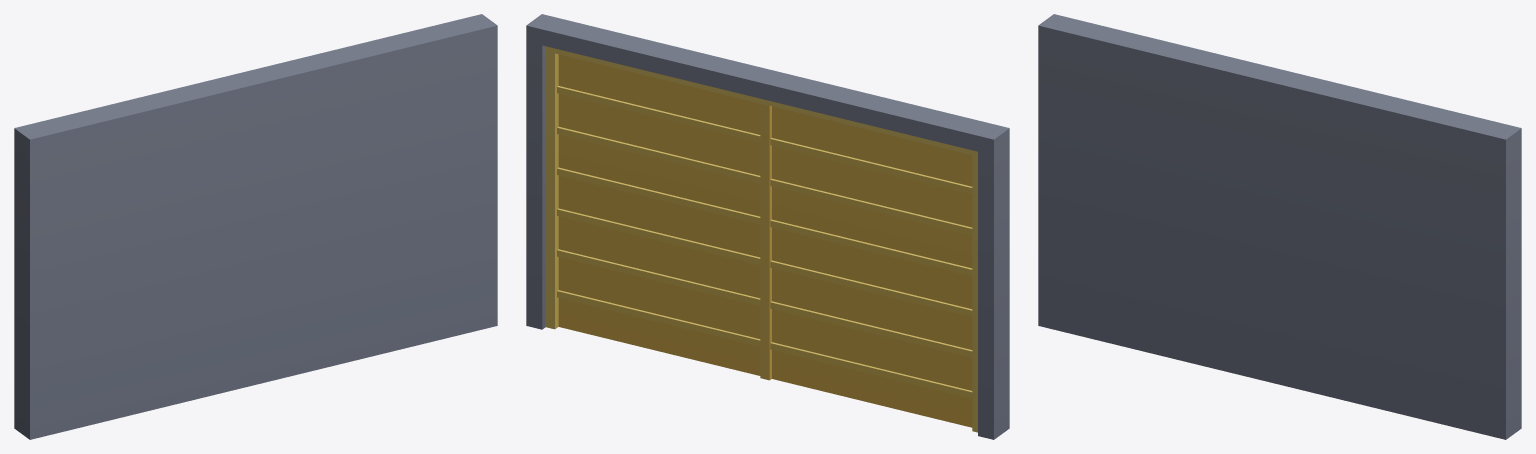
The model's file is squidgame_props_door2.fbx.
3 renders of one model, left to right at view 1: azimuth 30°, elevation 25°; view 2: azimuth 150°, elevation 25°; view 3: azimuth 330°, elevation 25°, orthographic.
Visible parts, largest first — view 1: squidgame_props_door2; view 2: squidgame_props_door2; view 3: squidgame_props_door2.
Part boxes in pixels (box(x1,y1,x2,y2)): squidgame_props_door2: box(14, 14, 497, 439); squidgame_props_door2: box(526, 14, 1009, 439); squidgame_props_door2: box(1038, 14, 1521, 439).
Size of the model in its own units: 5.46 by 3.35 by 0.3188.
